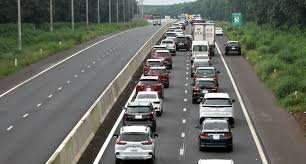Bien-so: (135, 113, 142, 120), (213, 134, 219, 140), (131, 147, 138, 152)
